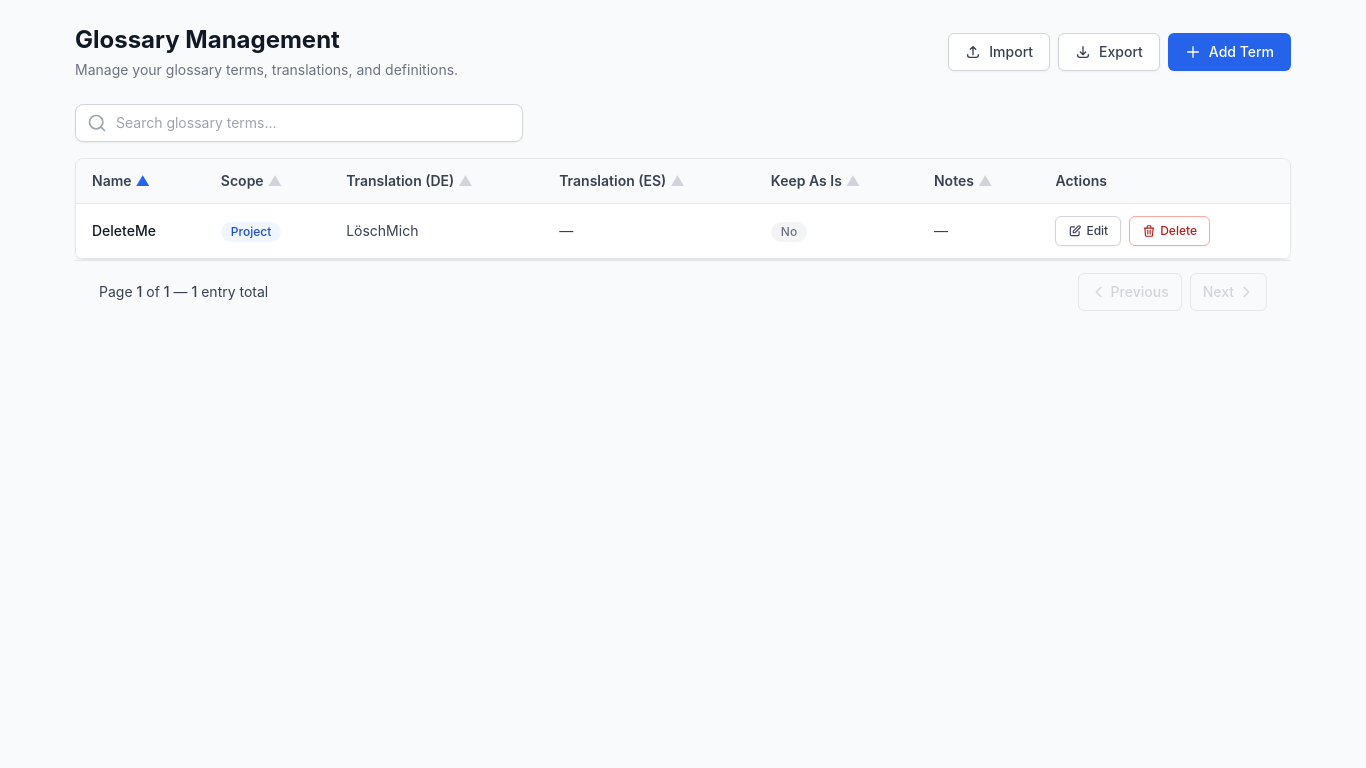
Scenario: App › deleting a term › opens the delete confirmation modal
expect the text "DeleteMe" is shown: met, box [76,204,205,258]
Click the button with aria-label "delete term deleteme": click(1170, 231) [1129,216,1210,246]
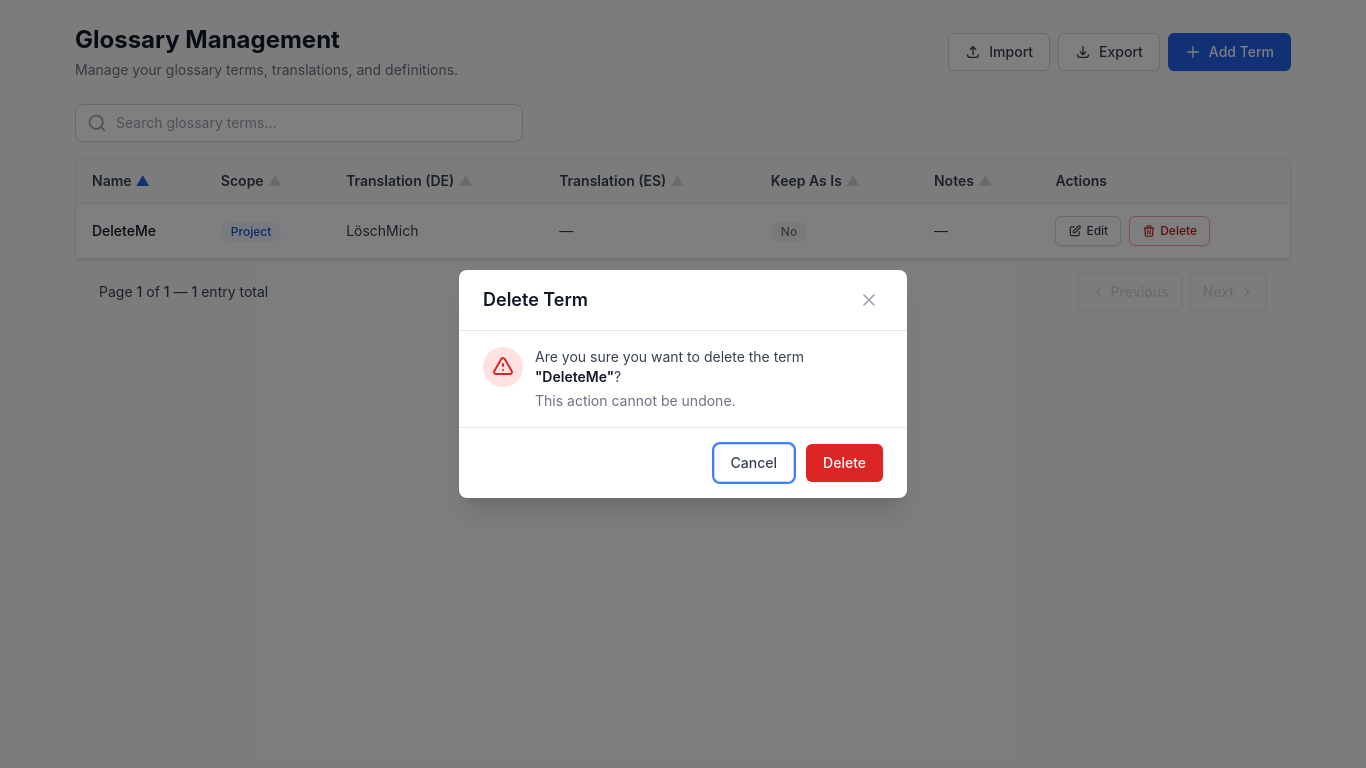
expect the heading "Delete Term" is shown: met, box [483,286,588,314]
expect the text "Are you sure you want to delete the term \"DeleteMe\"?" is shown: met, box [535,348,804,385]
expect the text "\"DeleteMe\"" is shown: met, box [535,368,614,385]
